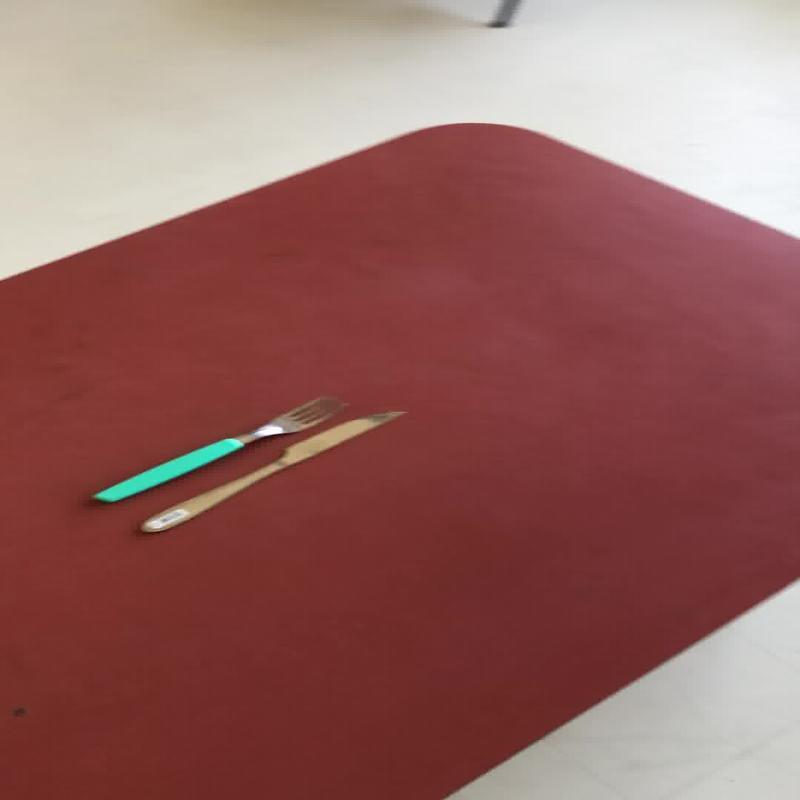fork: (138, 409, 407, 533), (90, 394, 344, 504)
knife: (137, 408, 407, 534), (90, 394, 344, 504)
